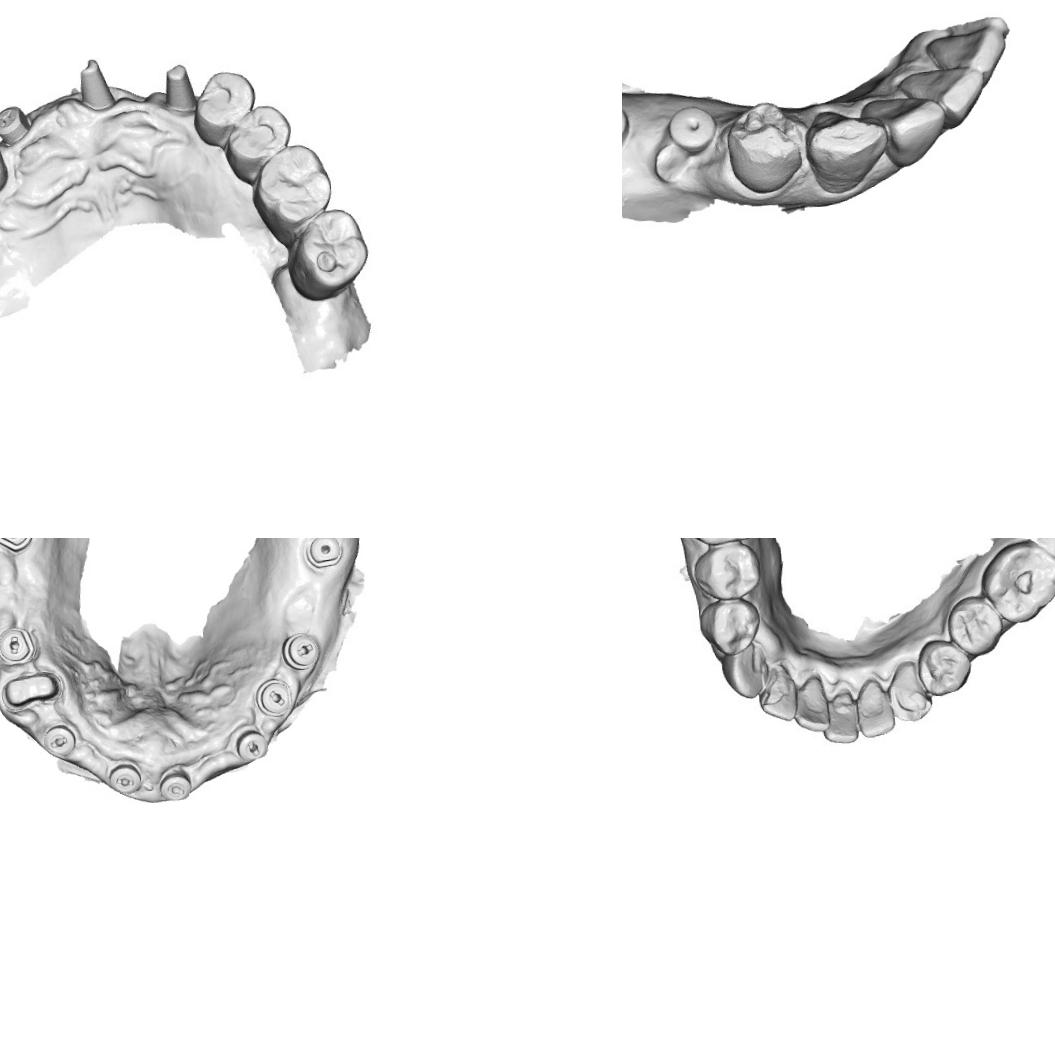abutment: (70, 52, 120, 114), (159, 55, 200, 123)
canine: (802, 100, 890, 195), (718, 644, 770, 702), (886, 661, 931, 720)
crown: (0, 669, 63, 714)
implant: (670, 106, 714, 153), (302, 538, 346, 570)
implant_minus: (252, 676, 295, 719), (278, 630, 323, 671), (0, 622, 39, 666), (154, 768, 196, 805), (230, 728, 270, 764), (104, 762, 145, 797), (39, 719, 76, 757), (0, 538, 36, 554)
implant_plus: (0, 102, 33, 143)
incisor: (871, 86, 950, 167), (911, 60, 980, 122), (936, 24, 1004, 79), (857, 676, 896, 736), (757, 664, 796, 722), (794, 674, 832, 730), (822, 694, 860, 744)
molar: (247, 140, 338, 250), (282, 206, 370, 302), (984, 538, 1055, 624)
premolar: (725, 102, 808, 192), (224, 100, 295, 186), (186, 68, 257, 150), (700, 542, 759, 598), (702, 597, 756, 652), (946, 600, 999, 650), (920, 640, 969, 690)
